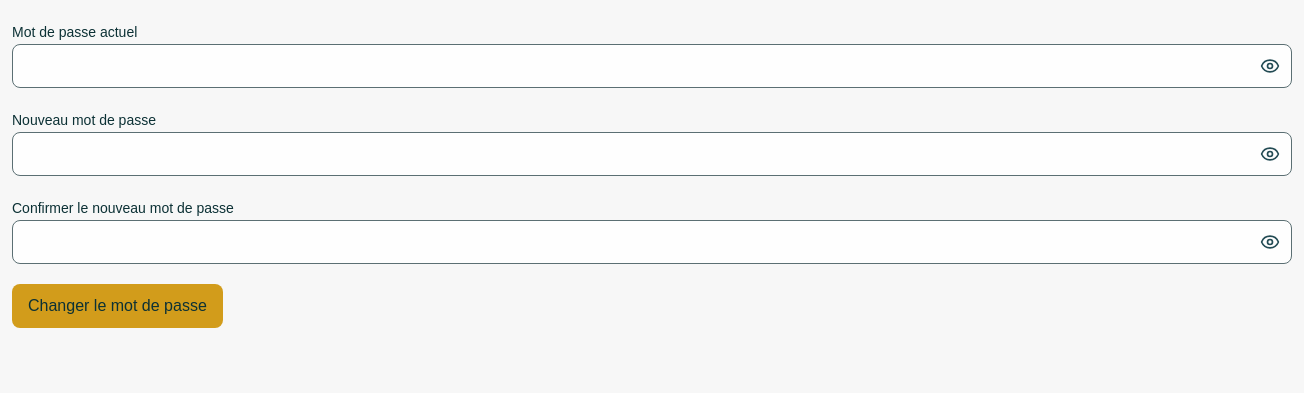
Test: ChangePasswordForm › confirme le changement de mot de passe
The image size is (1304, 393).
Type "Ancien123!" into the password field labelled "Mot de passe actuel".
click(652, 66); type("Ancien123!")  # box [12, 44, 1292, 88]
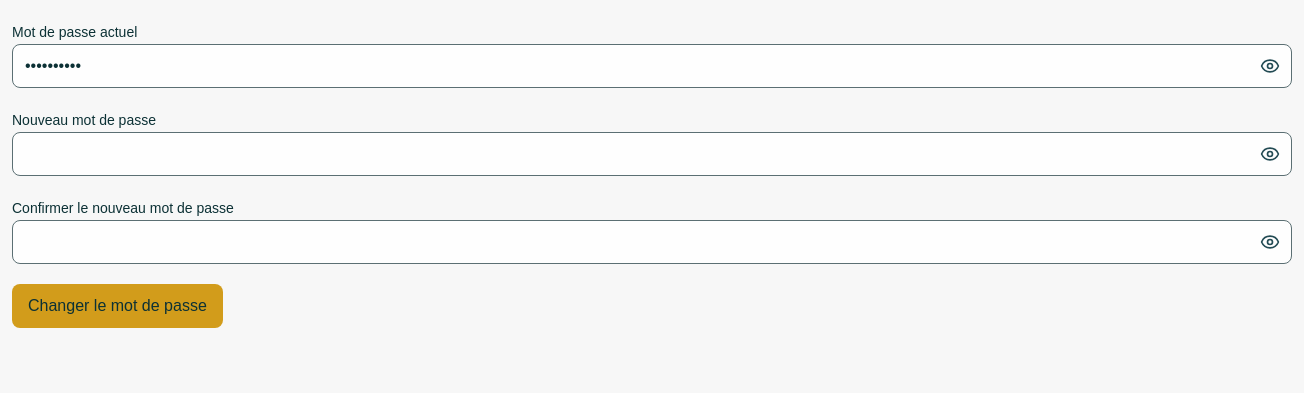
Type "NouveauMotDePasse1" into the password field labelled "Nouveau mot de passe".
click(652, 154); type("NouveauMotDePasse1")  # box [12, 132, 1292, 176]
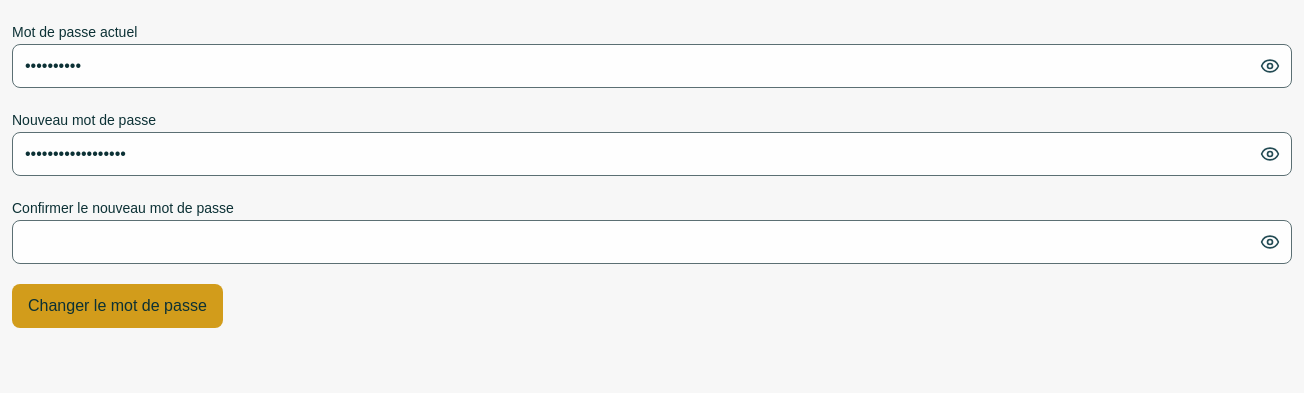
Type "NouveauMotDePasse1" into the password field labelled "Confirmer le nouveau mot de passe".
click(652, 242); type("NouveauMotDePasse1")  # box [12, 220, 1292, 264]
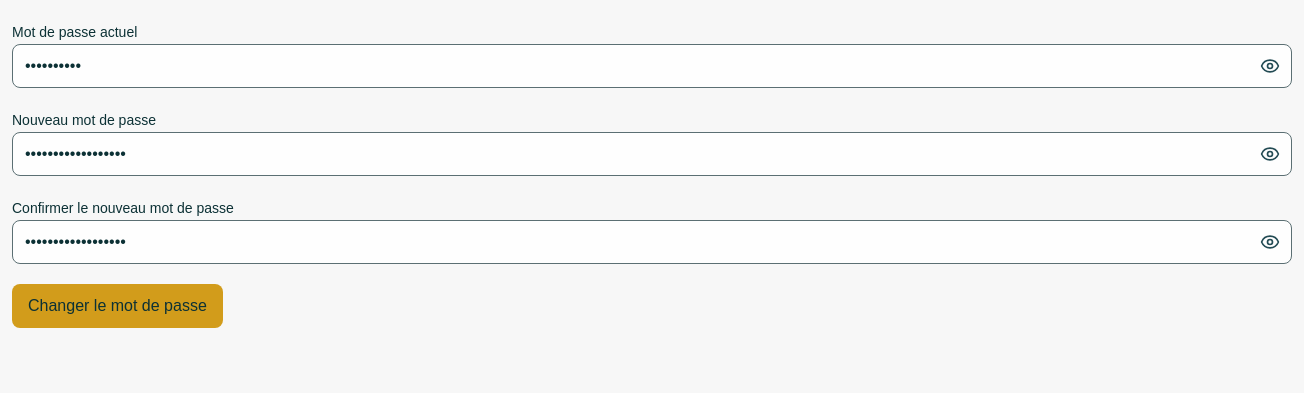
Click the button "Changer le mot de passe".
click(117, 306)  # box [12, 284, 223, 328]
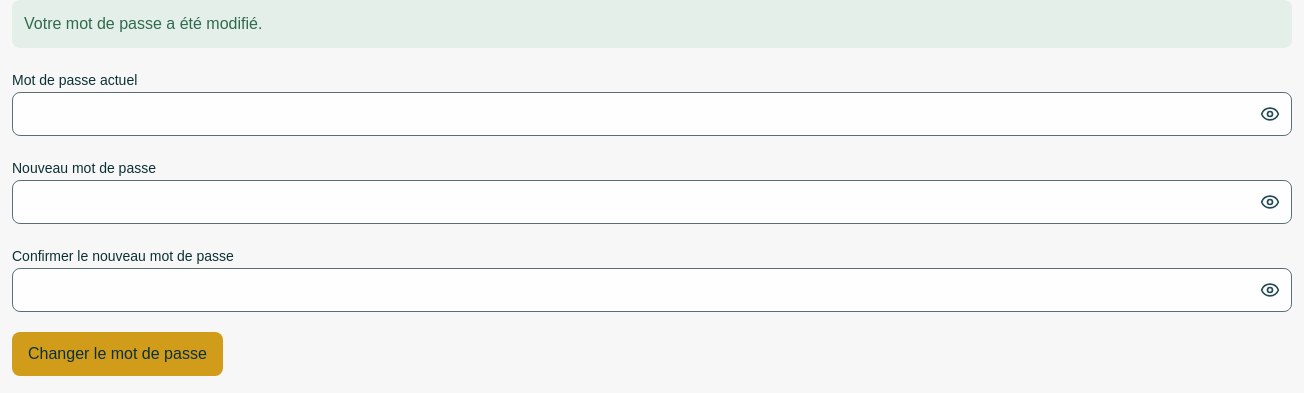
Expected: the message reads "Votre mot de passe a été modifié.", [24, 15, 262, 32]
